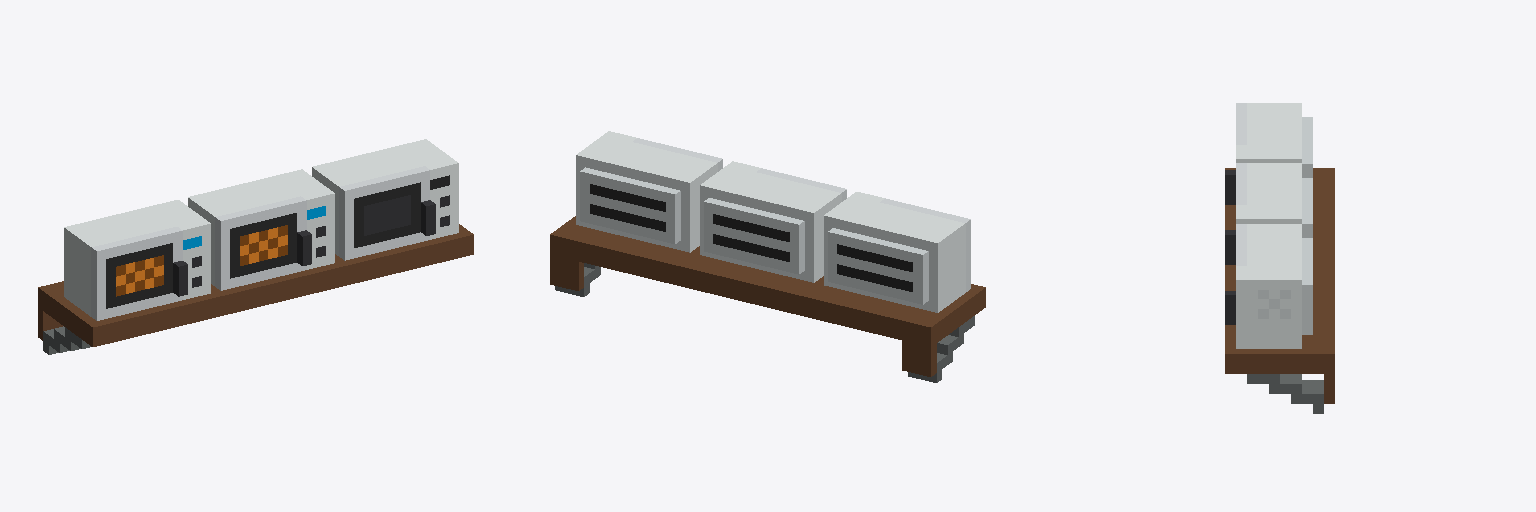
3 views of the same model, side by side, from view 1: azimuth 30°, elevation 25°; view 2: azimuth 150°, elevation 25°; view 3: azimuth 270°, elevation 25° (orthographic).
Parts seen in each view (by area): view 1: object 1; view 2: object 1; view 3: object 1.
Part boxes in pixels (bbox=[...]): object 1: bbox=[38, 139, 473, 354]; object 1: bbox=[550, 131, 985, 382]; object 1: bbox=[1225, 103, 1334, 413].
Size of the model in its own units: 4 by 1.3 by 1.
1 materials, 1 textured.